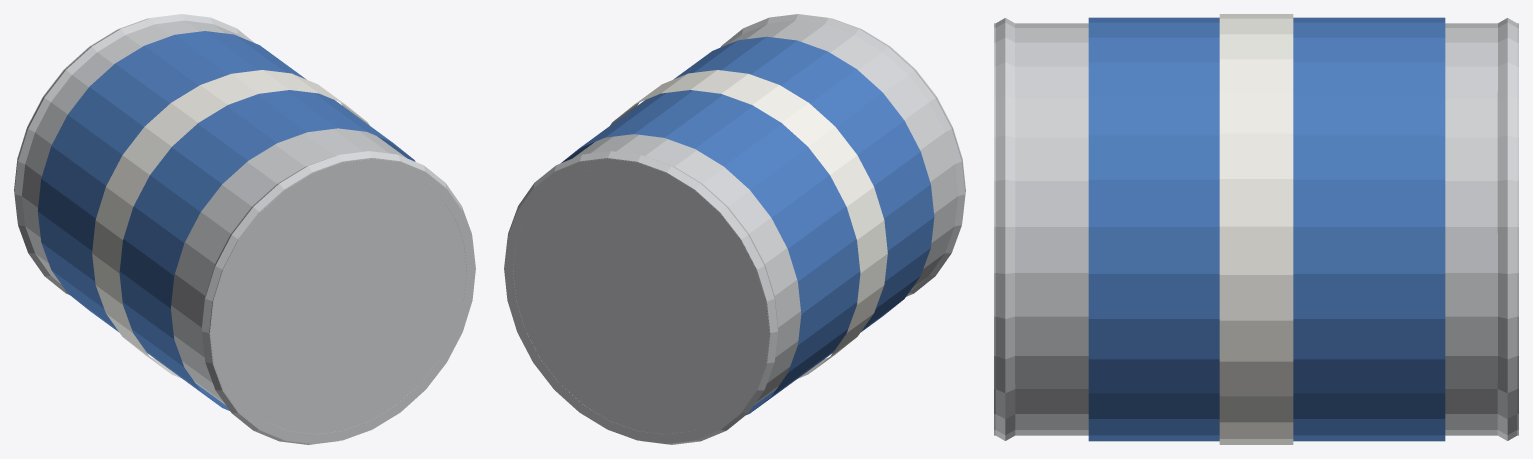
The model's file is can_3.obj.
3 views of the same model, side by side, from view 1: azimuth 30°, elevation 25°; view 2: azimuth 150°, elevation 25°; view 3: azimuth 270°, elevation 25° (orthographic). The views are drawn at different scales.
Bounding box in the file's own units: 0.115 × 0.115 × 0.1401.
